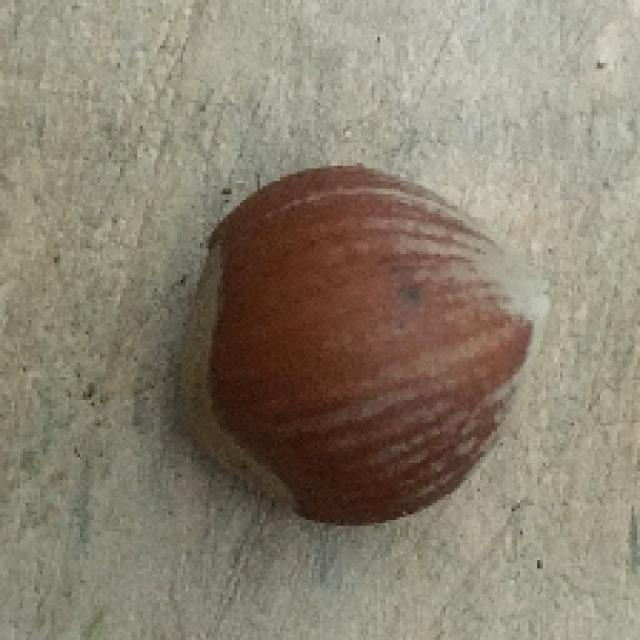QualityHazelnut: (171, 162, 546, 531)
